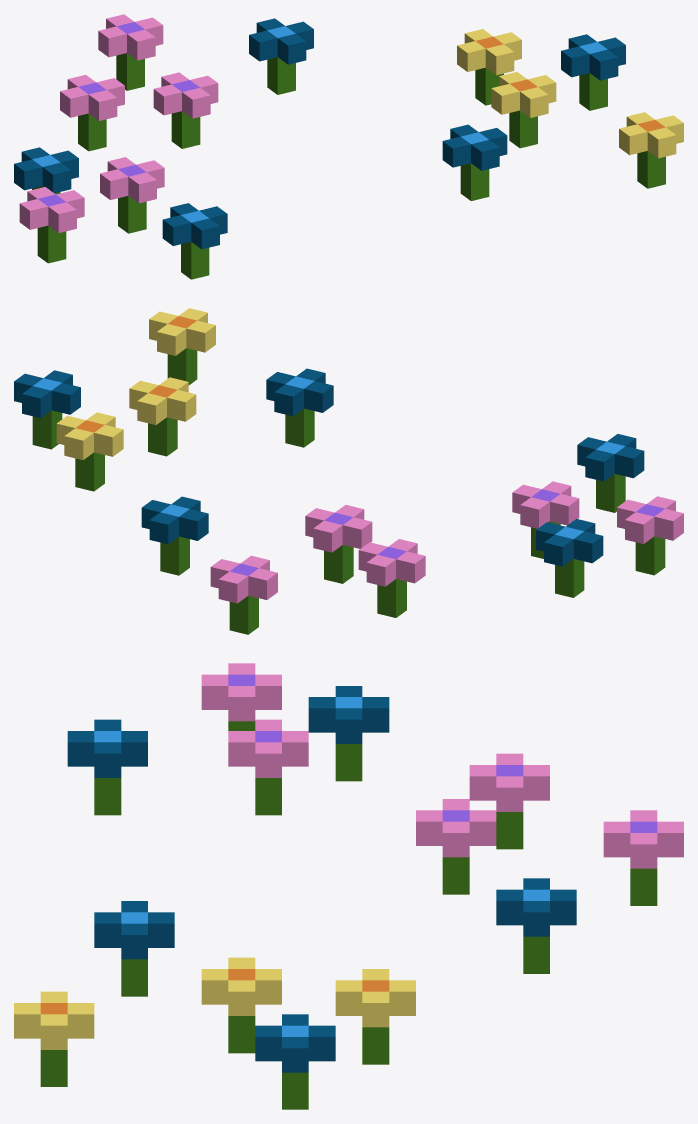
File: flowers_2_overtile.obj
3 views of the same model, one above another, from view 1: azimuth 30°, elevation 25°; view 2: azimuth 150°, elevation 25°; view 3: azimuth 270°, elevation 25° (orthographic). The views are drawn at different scales.
Size of the model in its own units: 3.4 by 0.3 by 2.5.
1 material, 1 textured.
